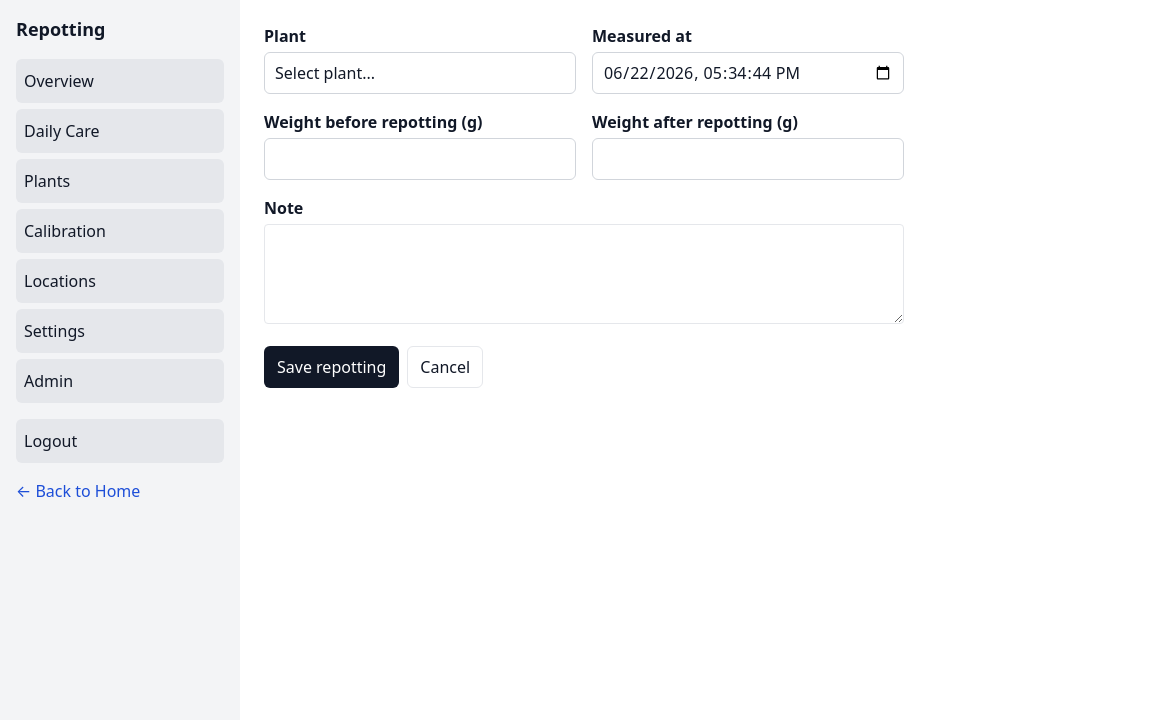
pages/RepottingCreate › save error shows generic message
Select "Aloe" in the dropdown labelled "Plant" at point(420, 73), box [264, 52, 576, 94]
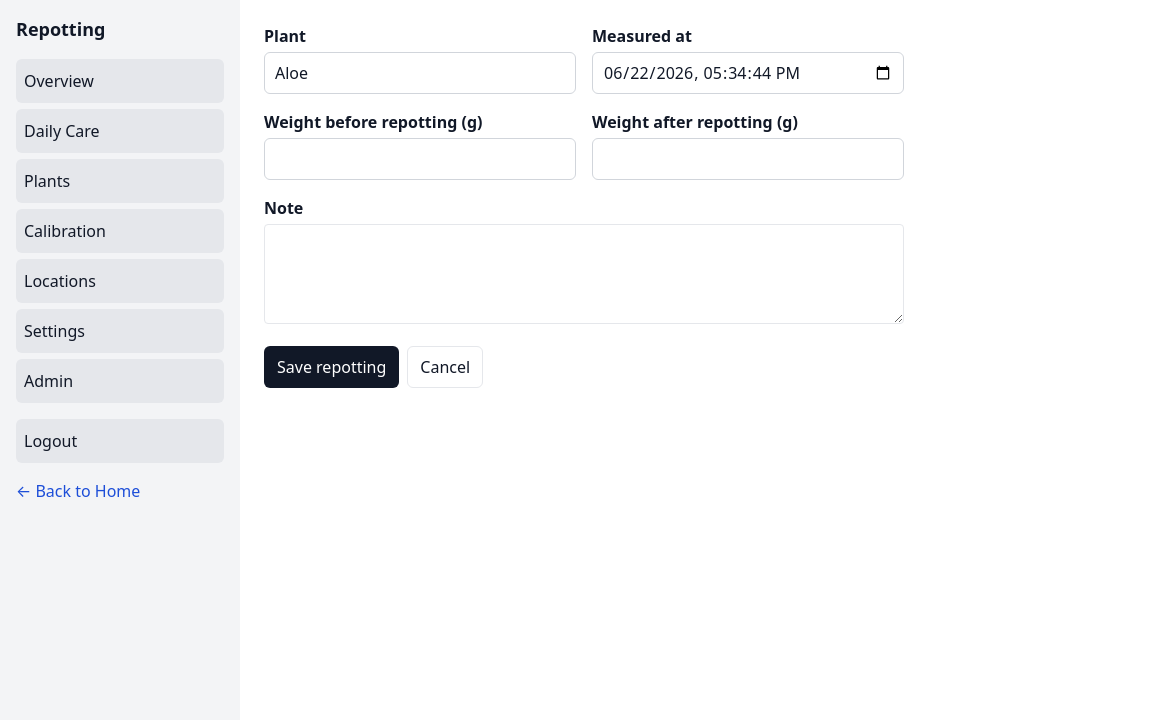
Type "1" into the number field labelled "Weight before repotting (g)" at point(420, 159), box [264, 138, 576, 180]
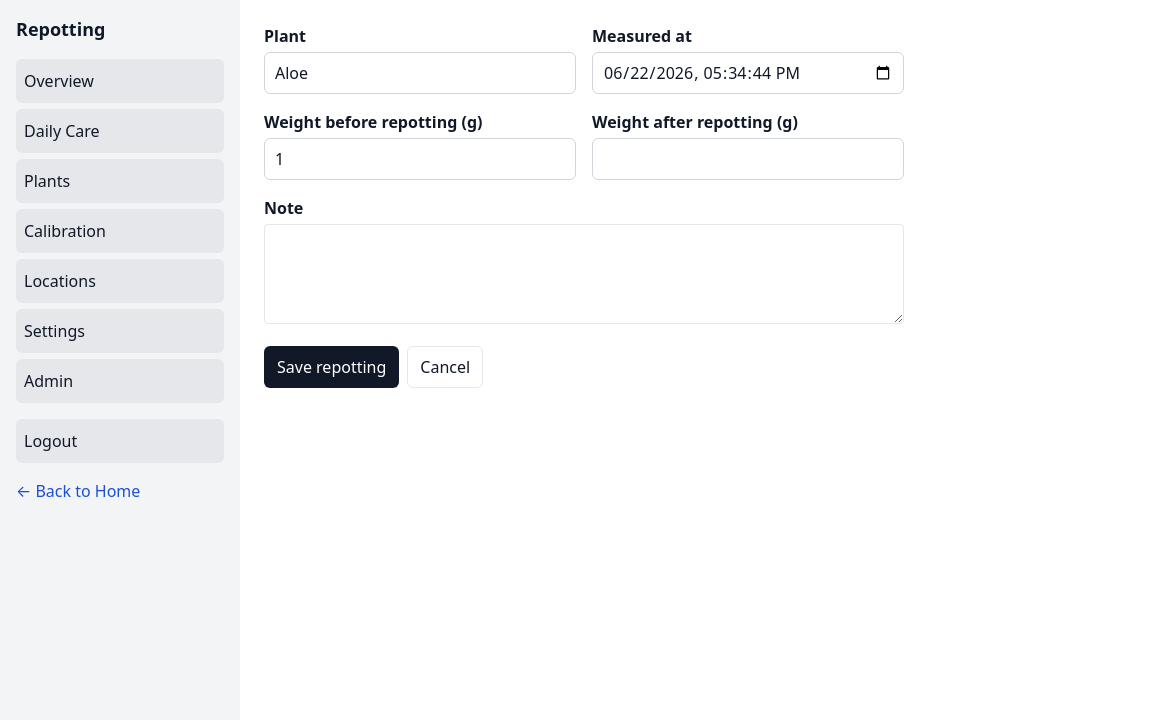
Type "2" into the number field labelled "Weight after repotting (g)" at point(748, 159), box [592, 138, 904, 180]
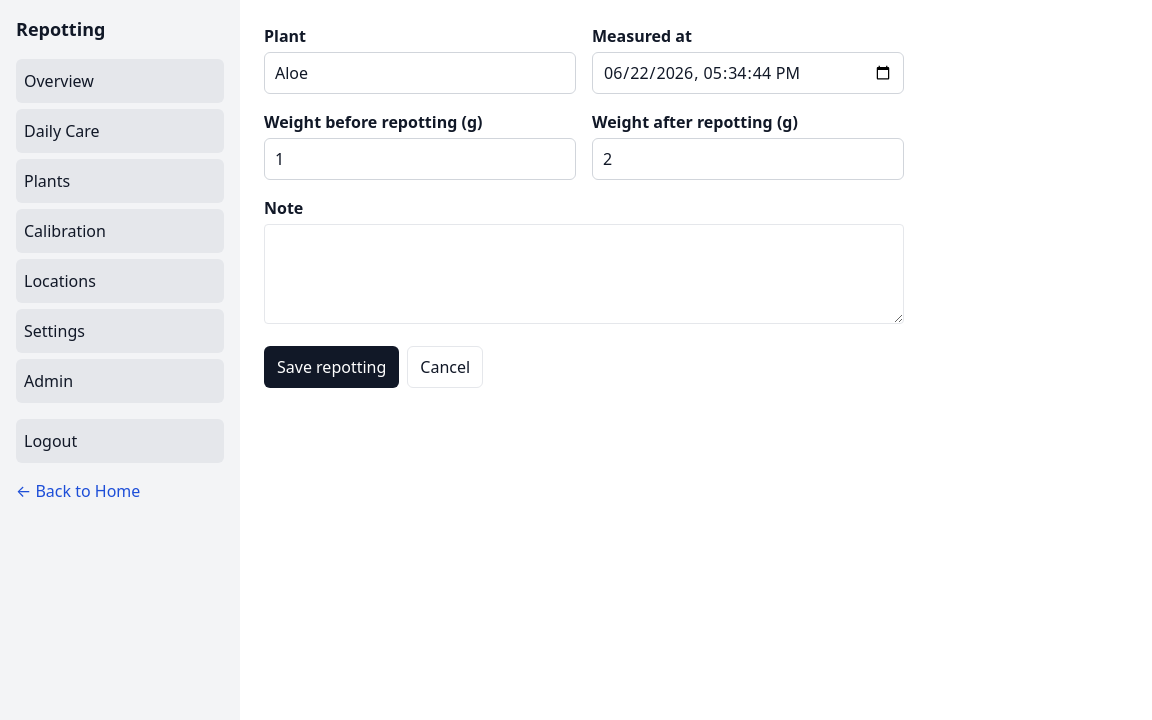
Click the button "Save repotting" at point(332, 367), box [264, 346, 399, 388]
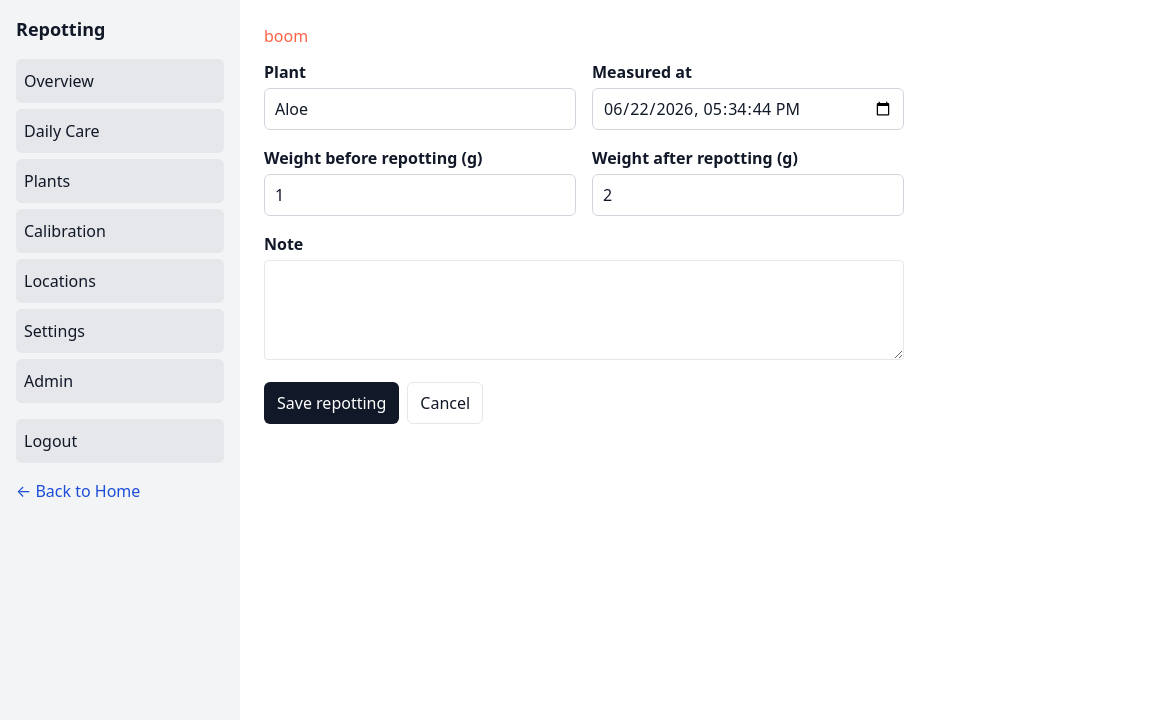
Now the text "boom" is shown, box [264, 25, 308, 47]
